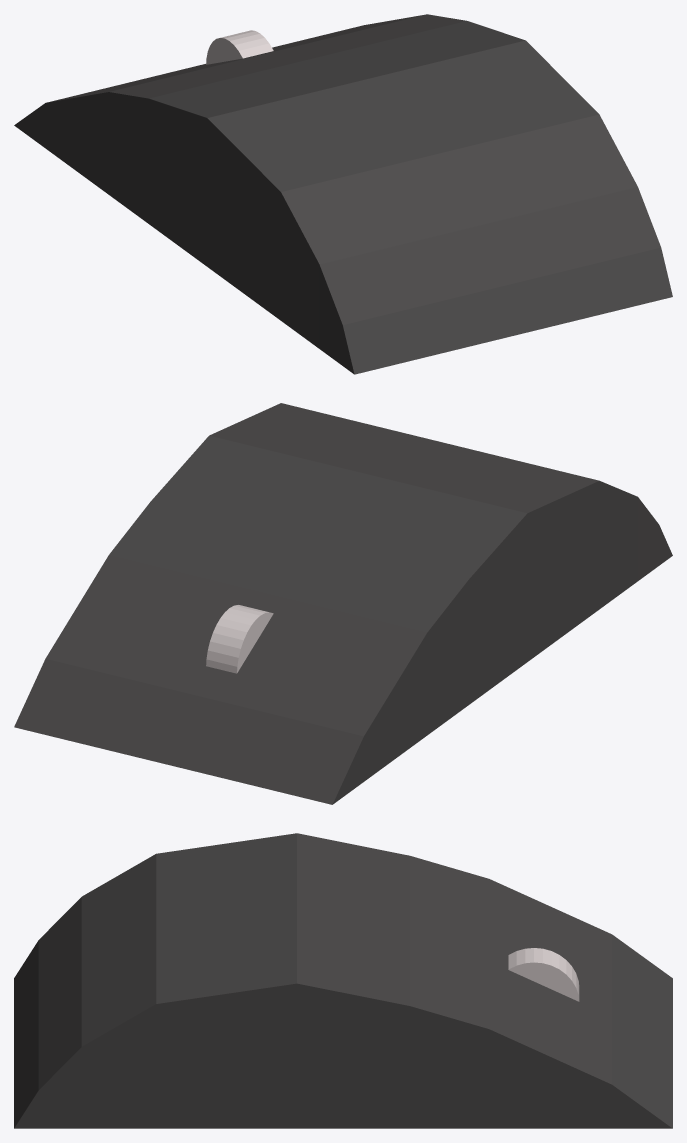
File: mouse.fbx
The picture shows the model from 3 angles, top to bottom: view 1: azimuth 30°, elevation 25°; view 2: azimuth 150°, elevation 25°; view 3: azimuth 270°, elevation 25°; orthographic projection. The views are drawn at different scales.
Visible parts, largest first — view 1: Cube, Cylinder; view 2: Cube, Cylinder; view 3: Cube, Cylinder.
Boxes of the visible parts, x1,y1,x2,y2 form: Cube: (14,14,672,374); Cylinder: (206,30,273,64); Cube: (14,403,672,804); Cylinder: (206,605,273,673); Cube: (14,833,672,1128); Cylinder: (508,948,579,1001).
Size of the model in its own units: 105 by 46.69 by 193.
Materials: 2 (2 with a texture image).
